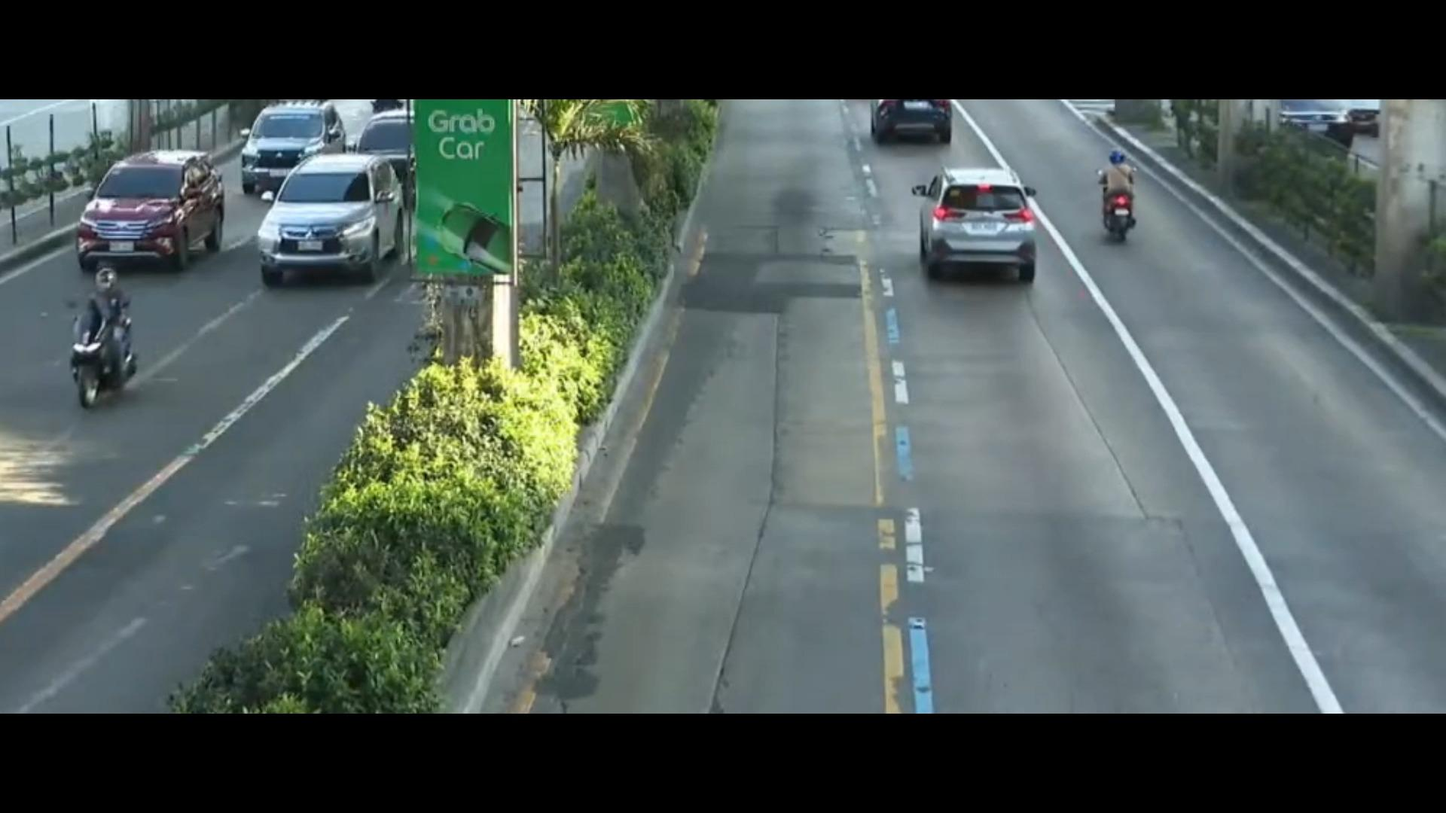Motorcycle: (1068, 133, 1175, 262), (51, 274, 149, 412)
SUV: (238, 154, 407, 300), (57, 141, 224, 278), (216, 86, 347, 190)
Sedan: (897, 146, 1062, 298)
